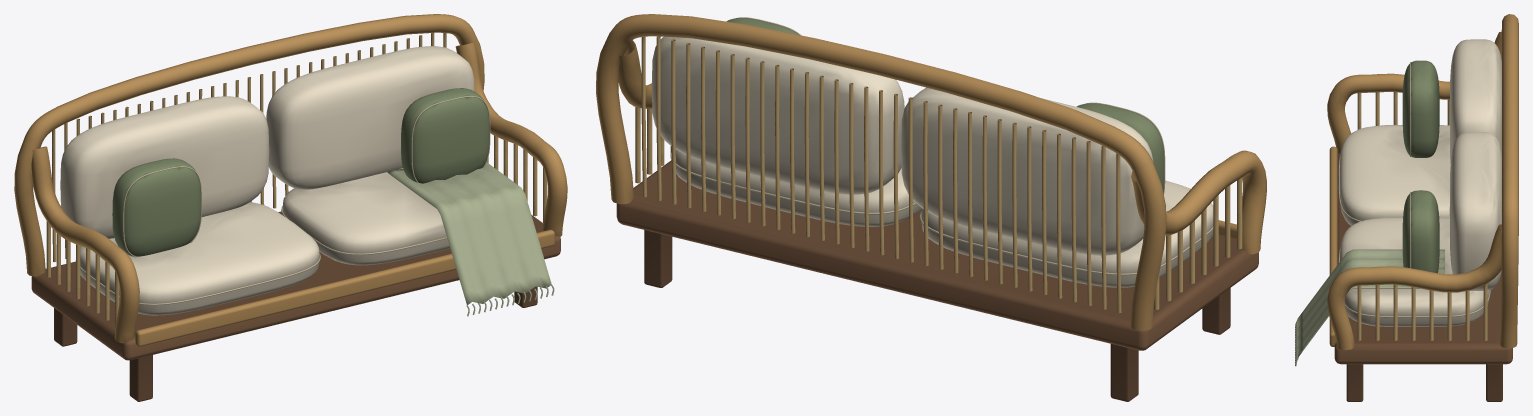
The model's file is sofa.glb.
The picture shows the model from 3 angles, left to right: view 1: azimuth 30°, elevation 25°; view 2: azimuth 150°, elevation 25°; view 3: azimuth 270°, elevation 25°; orthographic projection. The views are drawn at different scales.
Visible parts, largest first — view 1: Atelier_Sofa; view 2: Atelier_Sofa; view 3: Atelier_Sofa.
Part boxes in pixels (x1,y1,x2,y2): Atelier_Sofa: (14,14,567,401); Atelier_Sofa: (596,14,1266,401); Atelier_Sofa: (1295,14,1518,401).
Bounding box in the file's own units: 2.82 × 1.39 × 1.27.
